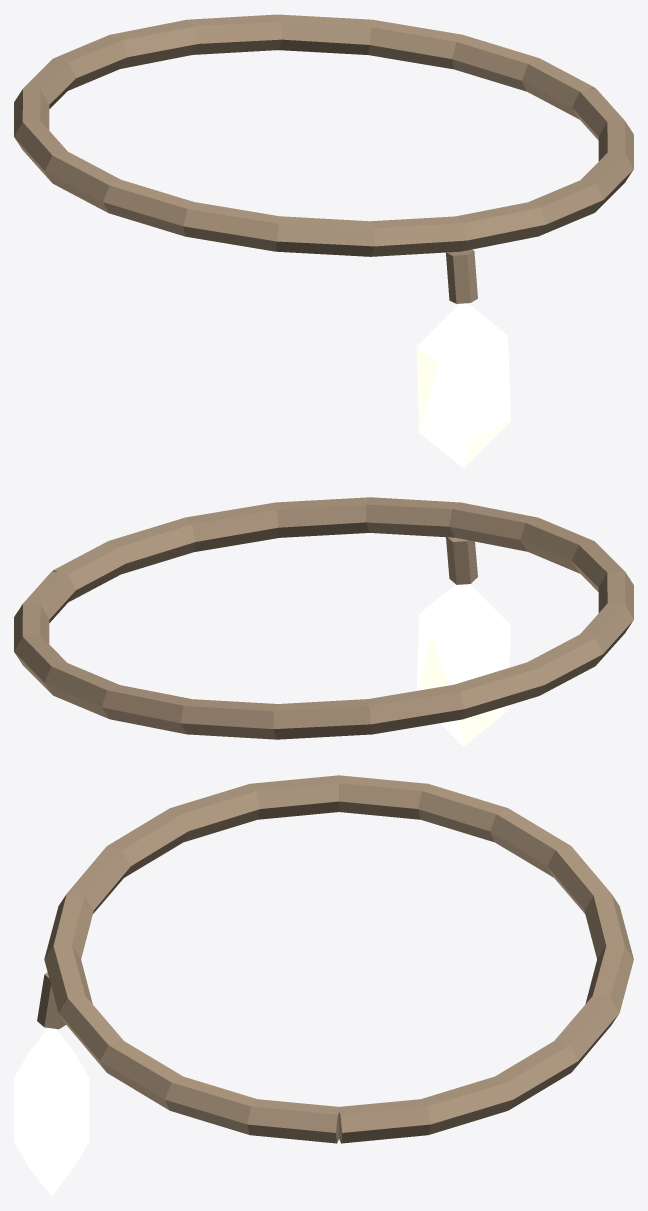
Rendered from echo-charm.glb.
3 views of the same model, one above another, from view 1: azimuth 30°, elevation 25°; view 2: azimuth 150°, elevation 25°; view 3: azimuth 270°, elevation 25° (orthographic). The views are drawn at different scales.
Parts seen in each view (by area): view 1: Echo_charm_cord, Echo_charm, Echo_charm_loop; view 2: Echo_charm_cord, Echo_charm, Echo_charm_loop; view 3: Echo_charm_cord, Echo_charm, Echo_charm_loop.
Part boxes in pixels (x1=…): Echo_charm_cord: x1=14, y1=14, x2=633, y2=256; Echo_charm: x1=416, y1=303, x2=510, y2=468; Echo_charm_loop: x1=446, y1=249, x2=477, y2=303; Echo_charm_cord: x1=14, y1=497, x2=633, y2=739; Echo_charm: x1=416, y1=584, x2=510, y2=746; Echo_charm_loop: x1=446, y1=537, x2=477, y2=584; Echo_charm_cord: x1=44, y1=775, x2=633, y2=1143; Echo_charm: x1=14, y1=1028, x2=89, y2=1196; Echo_charm_loop: x1=37, y1=972, x2=66, y2=1029.
Bounding box in the file's own units: 0.1799 × 0.0853 × 0.1682.
